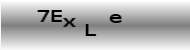7: (36, 8, 51, 24)
E: (49, 8, 63, 23)
L: (83, 22, 97, 37)
e: (108, 11, 123, 25)
x: (62, 16, 77, 28)
